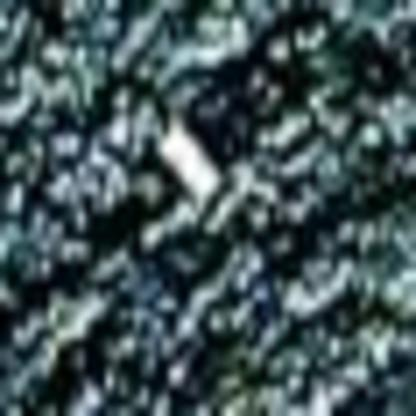ship: (154, 106, 229, 211)
